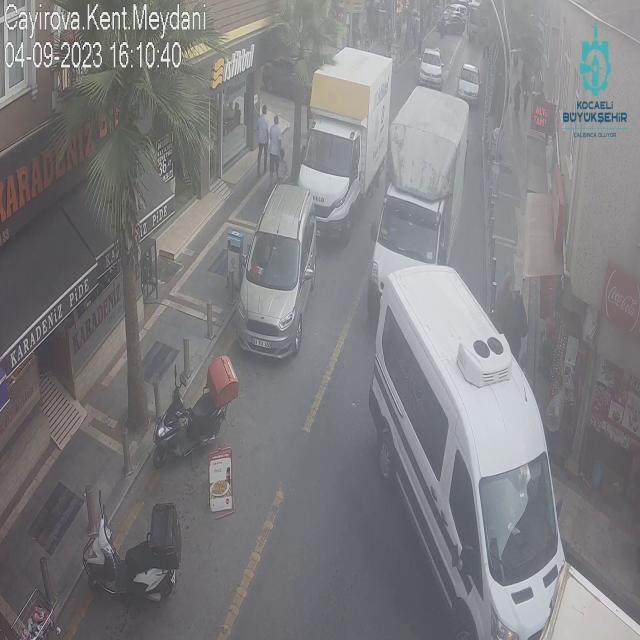Car: (416, 46, 446, 88)
Cycle: (82, 479, 182, 607), (155, 351, 238, 461)
Truck: (368, 263, 566, 640), (279, 47, 395, 236), (372, 88, 468, 302)
Van: (235, 184, 322, 362)
